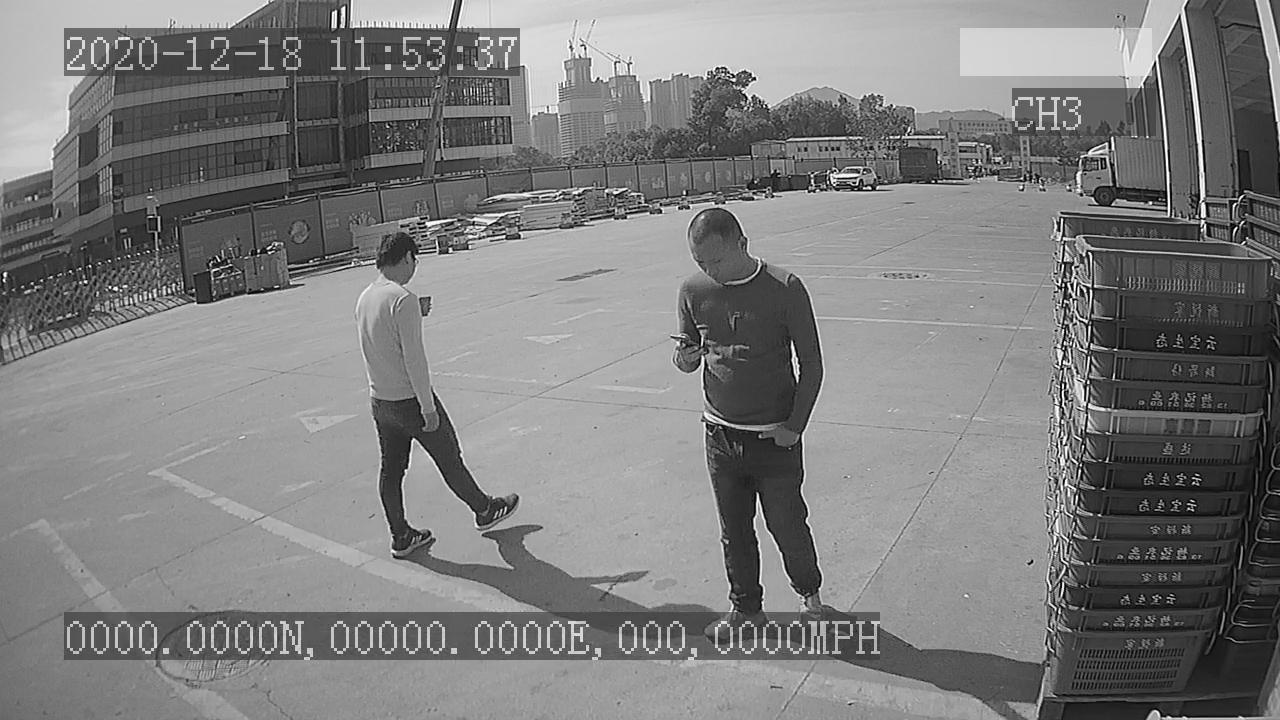person: (343, 219, 538, 567)
